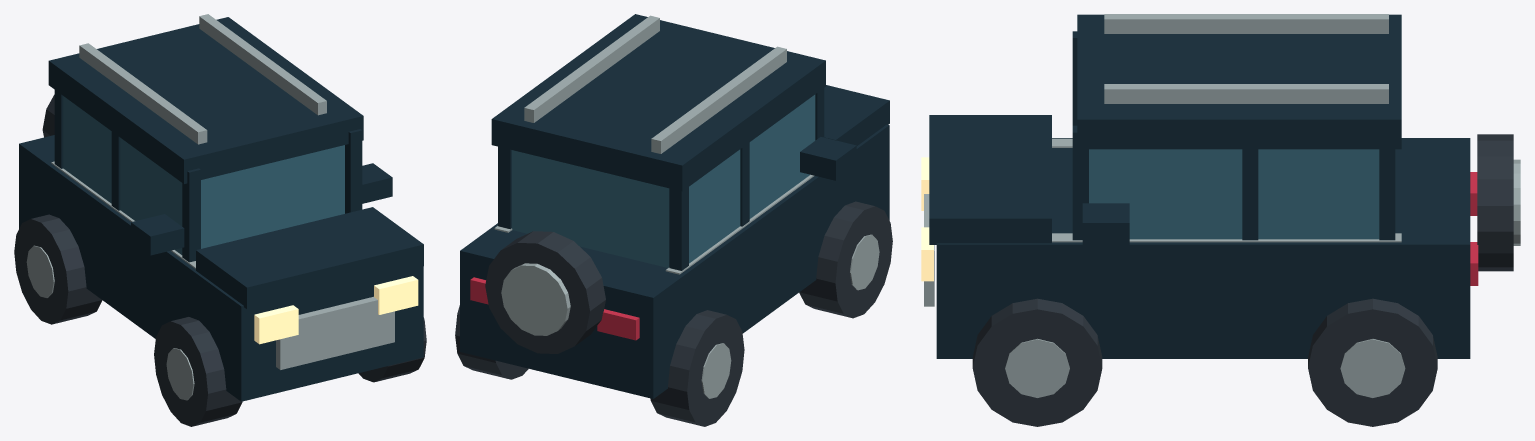
The model's file is traffic-suv.glb.
3 views of the same model, side by side, from view 1: azimuth 30°, elevation 25°; view 2: azimuth 150°, elevation 25°; view 3: azimuth 270°, elevation 25° (orthographic). The views are drawn at different scales.
Parts seen in each view (by area): view 1: suv dark, suv glass, suv chrome, suv rubber, suv glow_lamp; view 2: suv dark, suv glass, suv rubber, suv chrome, suv red; view 3: suv dark, suv rubber, suv glass, suv chrome, suv glow_lamp, suv red.
Boxes of the visible parts, x1=… form: suv dark: x1=19, y1=17, x2=423, y2=401; suv glass: x1=63, y1=96, x2=344, y2=254; suv chrome: x1=26, y1=14, x2=394, y2=400; suv rubber: x1=14, y1=94, x2=426, y2=426; suv glow_lamp: x1=254, y1=276, x2=418, y2=344; suv dark: x1=460, y1=14, x2=889, y2=398; suv glass: x1=511, y1=94, x2=815, y2=267; suv rubber: x1=455, y1=201, x2=892, y2=426; suv chrome: x1=494, y1=15, x2=879, y2=398; suv red: x1=470, y1=277, x2=639, y2=340; suv dark: x1=929, y1=14, x2=1470, y2=358; suv rubber: x1=972, y1=134, x2=1513, y2=426; suv glass: x1=1089, y1=149, x2=1379, y2=239; suv chrome: x1=924, y1=14, x2=1520, y2=397; suv glow_lamp: x1=921, y1=157, x2=933, y2=281; suv red: x1=1470, y1=172, x2=1478, y2=285.
Size of the model in its own units: 0.93 by 0.9525 by 1.66.
